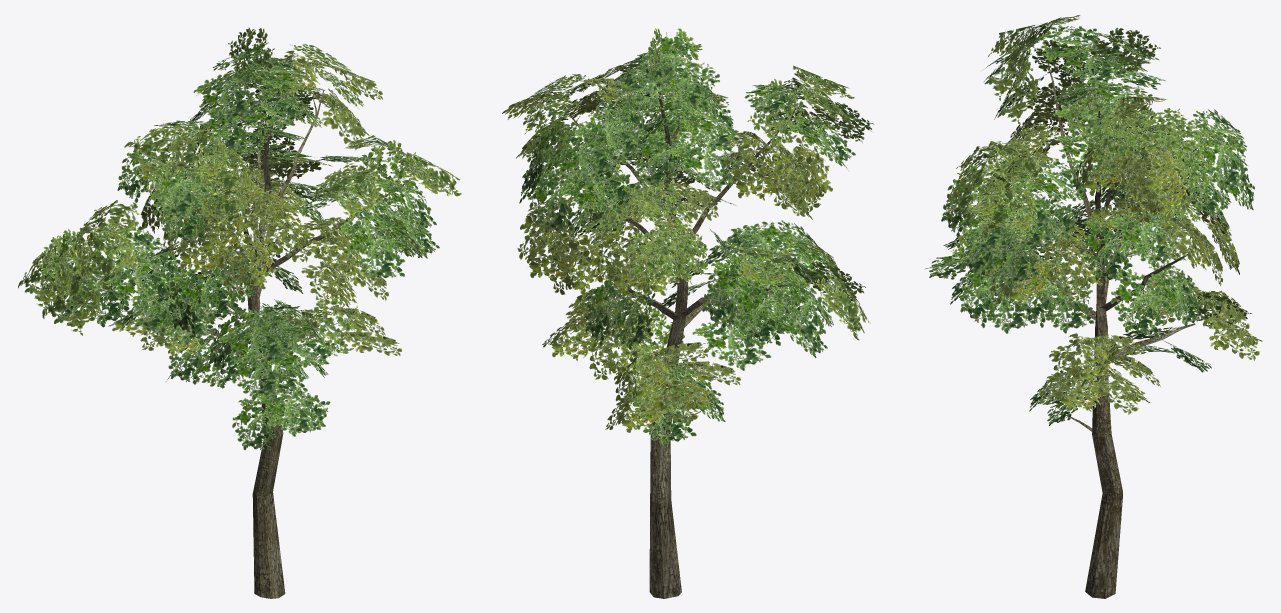
Rendered from raztree1.dae.
3 views of the same model, side by side, from view 1: azimuth 30°, elevation 25°; view 2: azimuth 150°, elevation 25°; view 3: azimuth 270°, elevation 25° (orthographic). The views are drawn at different scales.
Parts seen in each view (by area): view 1: leaf, bark; view 2: leaf, bark; view 3: leaf, bark.
Part boxes in pixels (left/top/right/bottom): leaf: left=18, top=27, right=461, bottom=450; bark: left=125, top=88, right=404, bottom=598; leaf: left=502, top=28, right=873, bottom=447; bark: left=564, top=91, right=796, bottom=598; leaf: left=924, top=15, right=1262, bottom=425; bark: left=1001, top=63, right=1201, bottom=598.
Size of the model in its own units: 2.32 by 1.97 by 3.52.
Materials: 2 (2 with a texture image).
